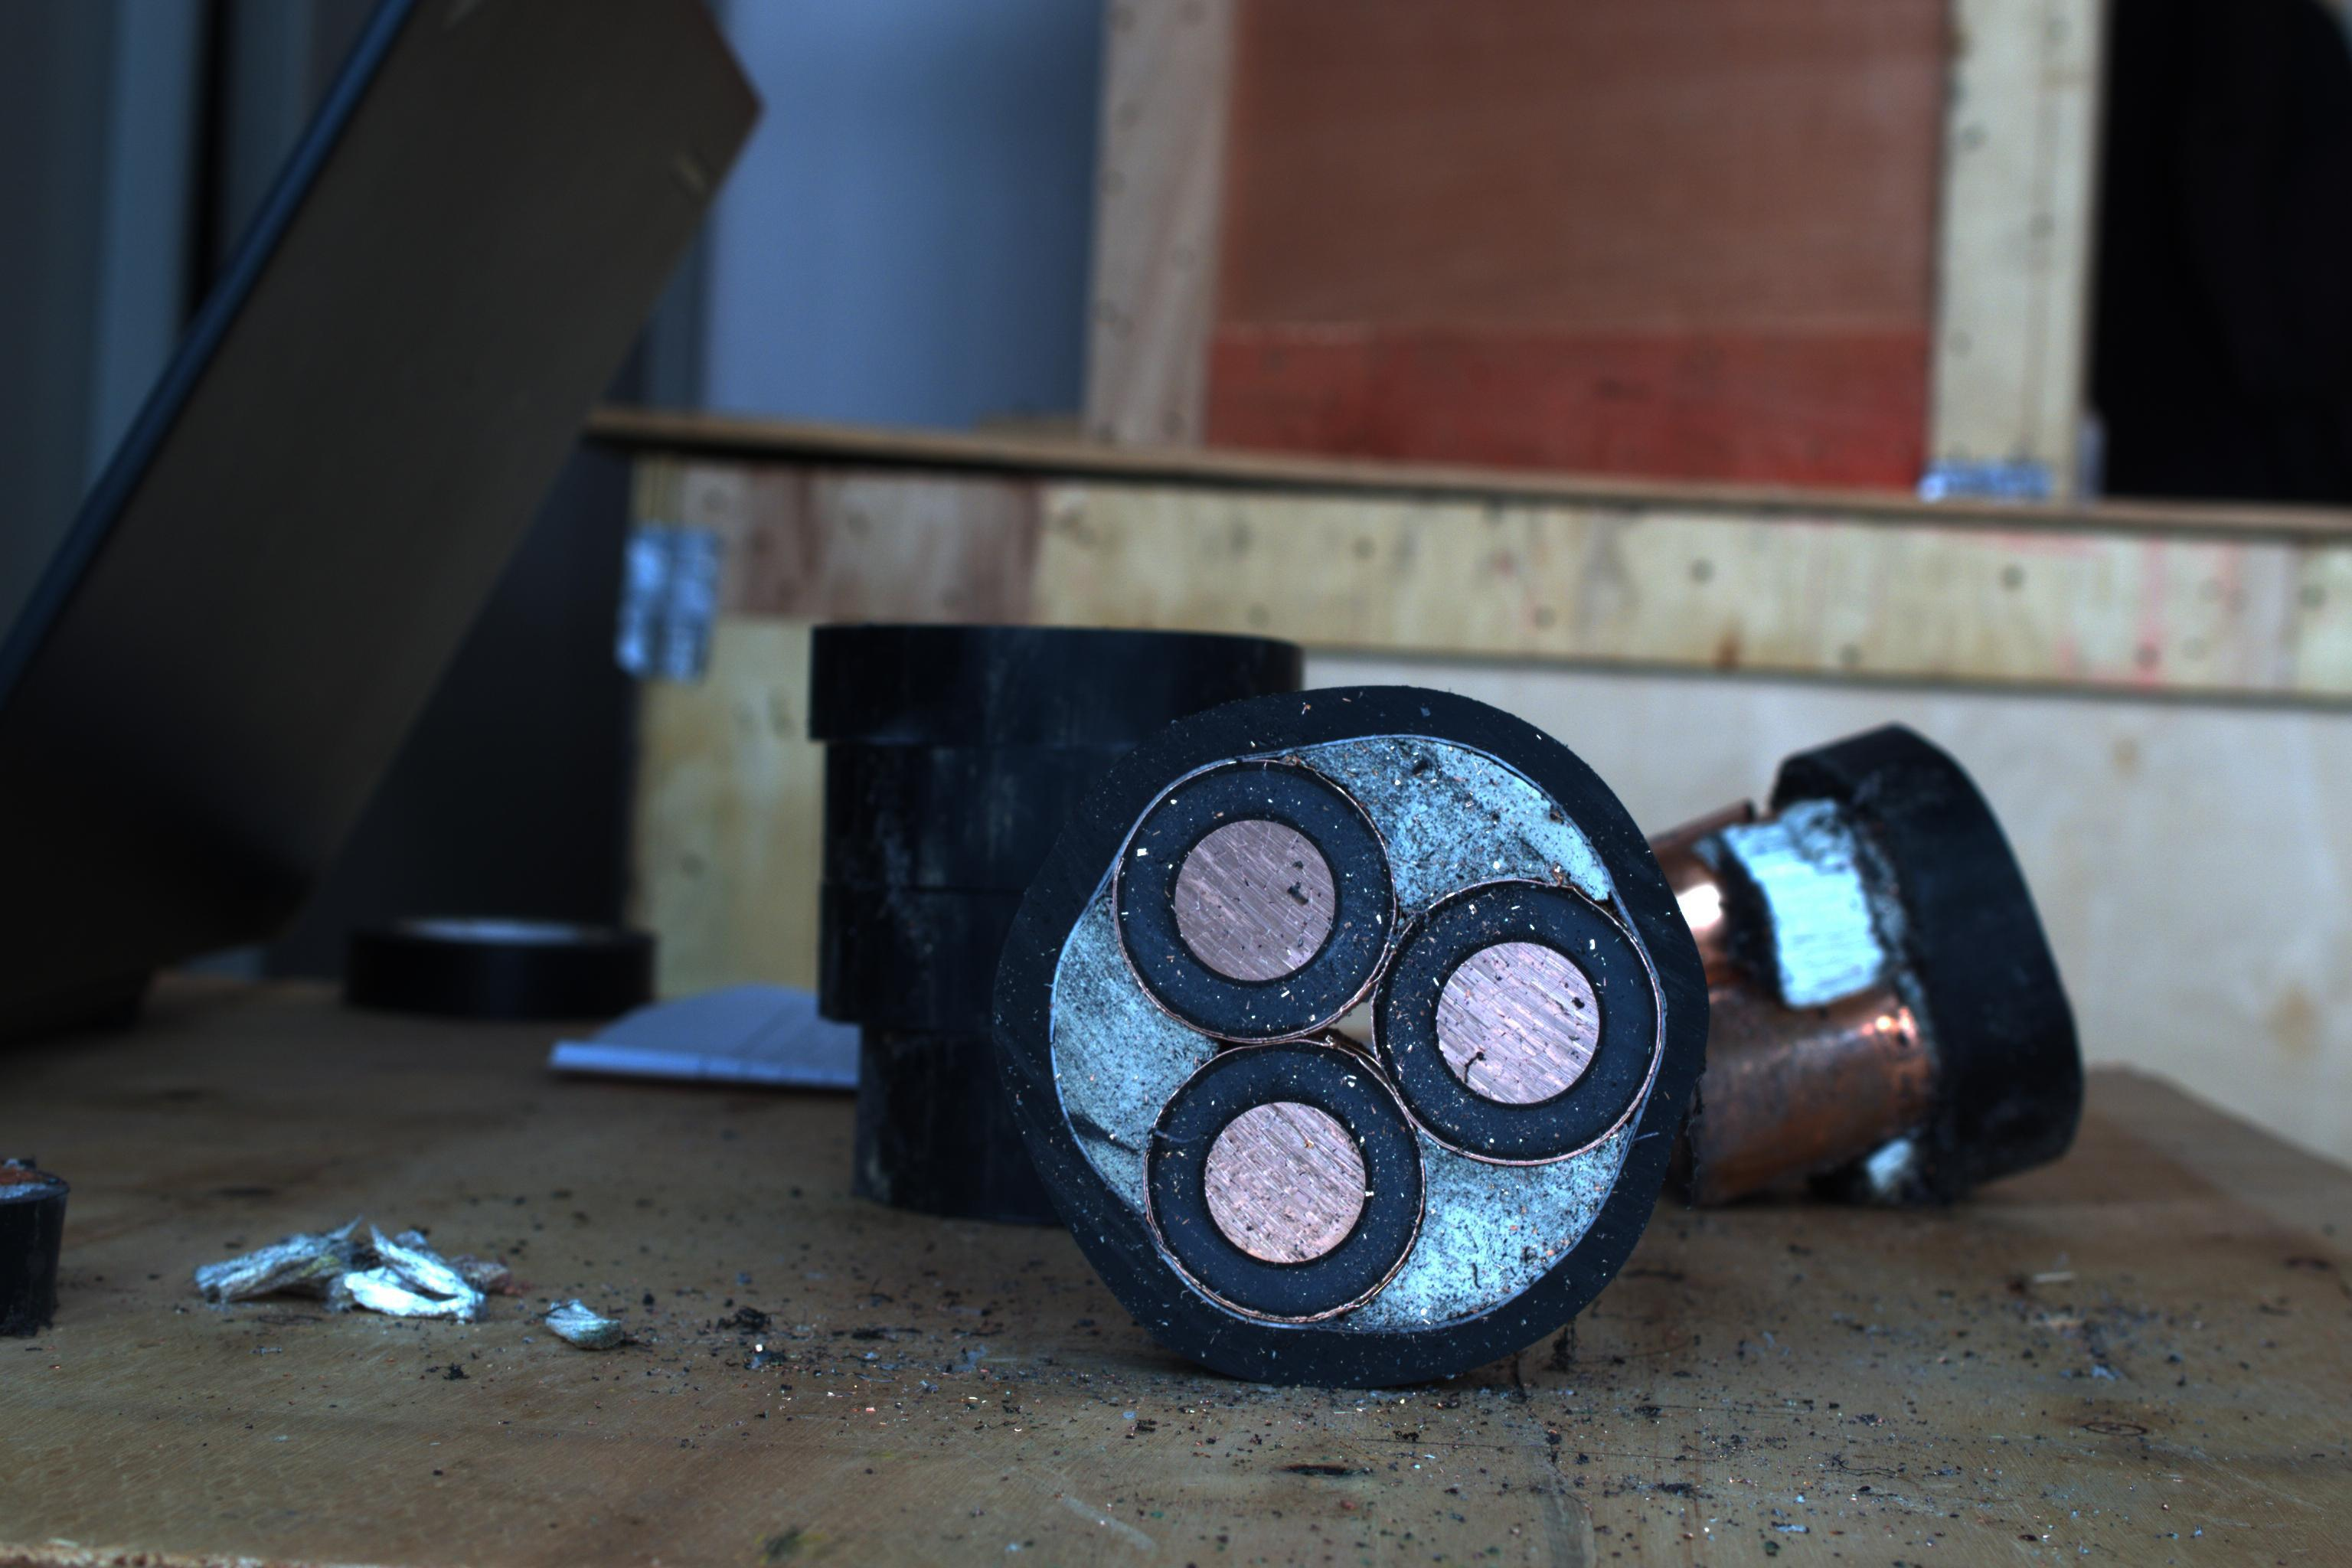ZA_YJV_8.7_10kV_3x240: (1003, 686, 1708, 1393)
